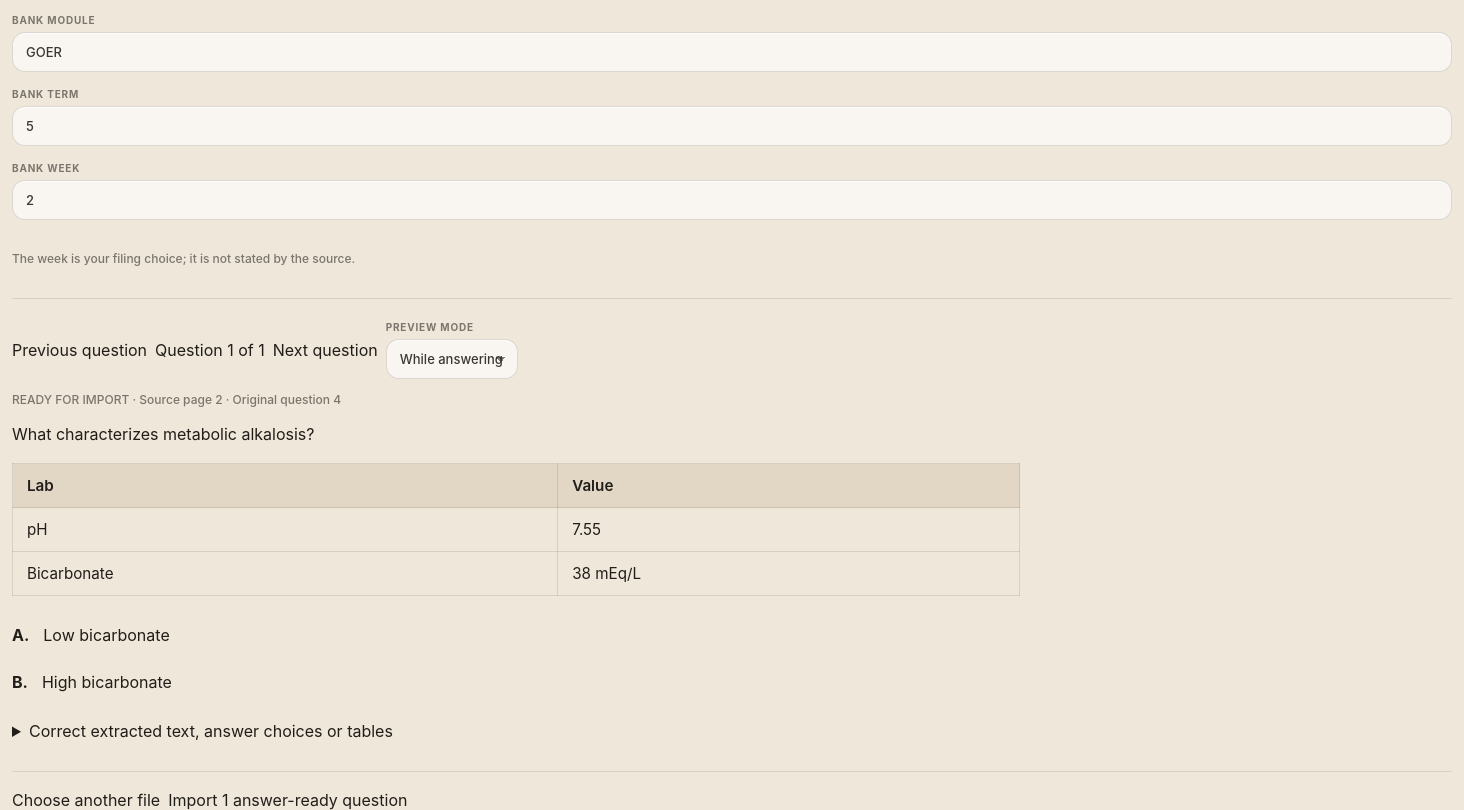
Test case: structured question import review › keeps the original source-page renderer out of answering mode
(page scrolled)
Expected: the button "View original PDF page" is not shown
Select "Source review" in the dropdown labelled "Preview mode". click: [452, 359]
box: [386, 339, 518, 379]
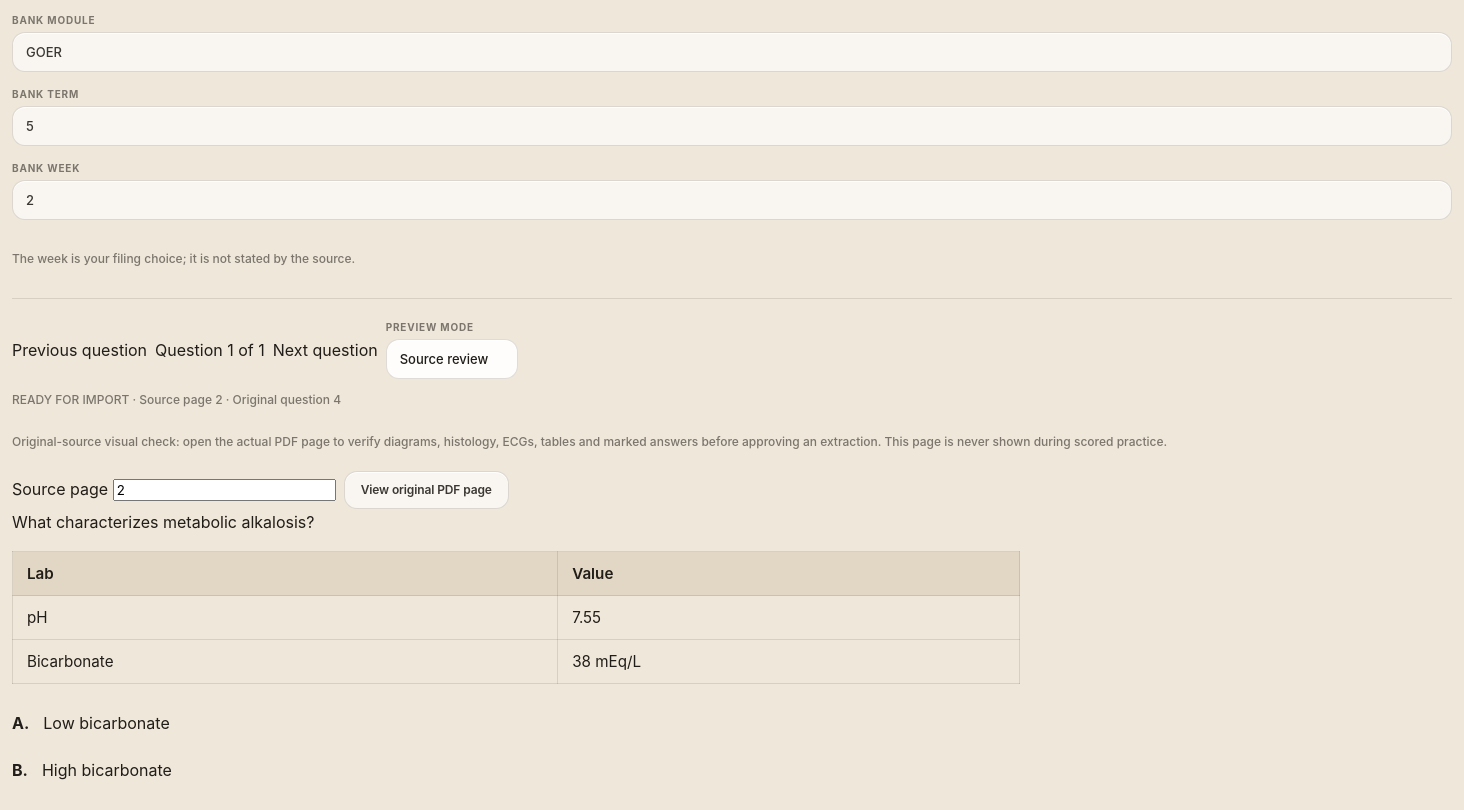
Result: the button "View original PDF page" is shown at [344, 471, 509, 509]
Result: the number field named "Original PDF page number" holds "2" at [113, 479, 336, 501]
